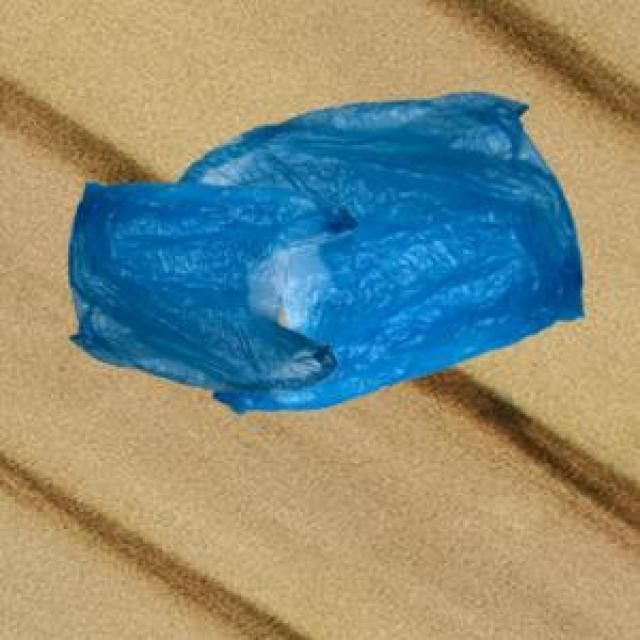waste: (69, 92, 582, 411)
